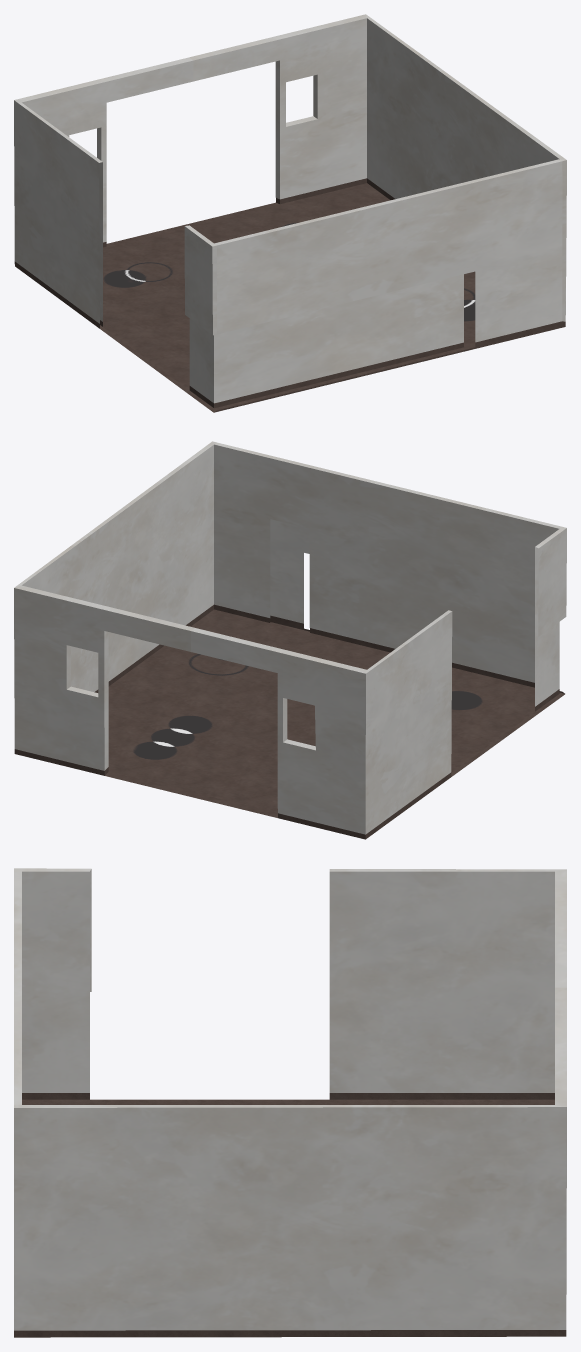
File: floor-wall.gltf
3 views of the same model, one above another, from view 1: azimuth 30°, elevation 25°; view 2: azimuth 150°, elevation 25°; view 3: azimuth 270°, elevation 25° (orthographic). The views are drawn at different scales.
Parts seen in each view (by area): view 1: pared, suelo; view 2: pared, suelo; view 3: pared, suelo.
Part boxes in pixels (<box>): pared: <box>14,14,566,403</box>; suelo: <box>14,178,565,412</box>; pared: <box>14,441,566,834</box>; suelo: <box>14,604,564,839</box>; pared: <box>14,868,566,1330</box>; suelo: <box>14,1093,566,1337</box>.
Size of the model in its own units: 68.21 by 30.6 by 66.55.
Materials: 2 (2 with a texture image).
